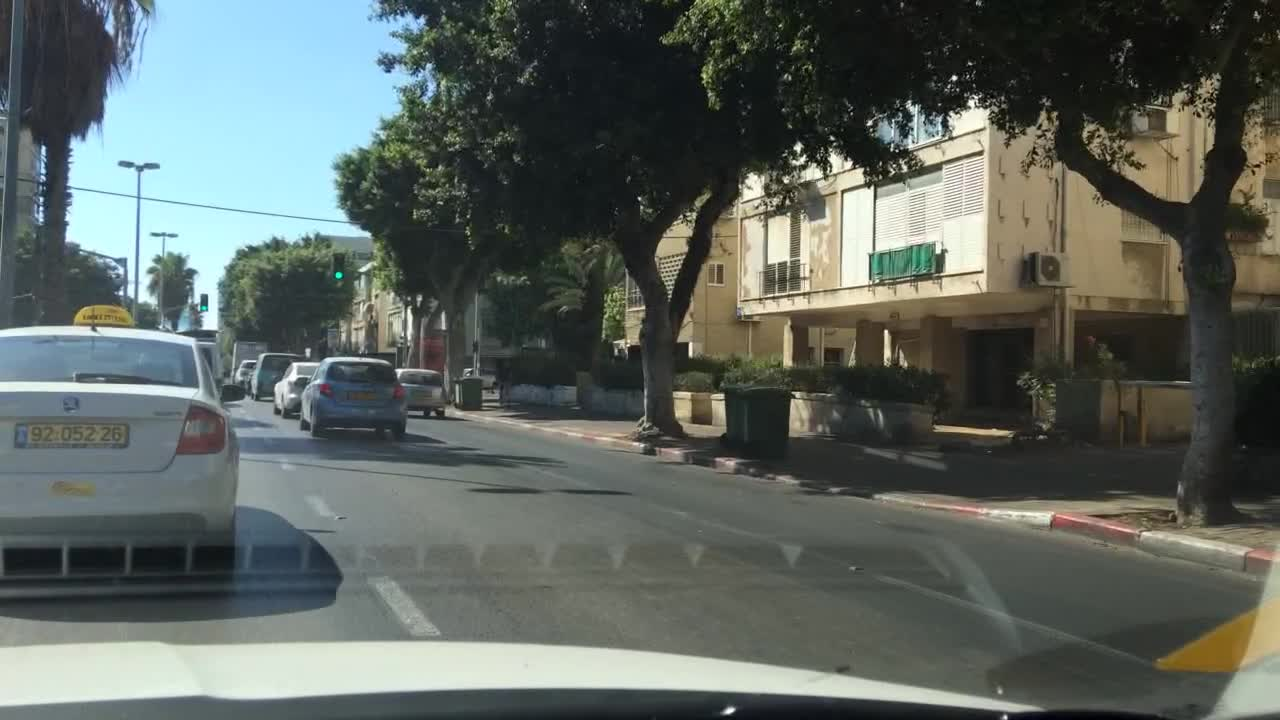car: (0, 304, 241, 577), (302, 357, 410, 438), (274, 359, 322, 423), (252, 346, 303, 399), (397, 364, 443, 419), (190, 339, 219, 408), (236, 359, 256, 377)
truck: (228, 339, 263, 392)
